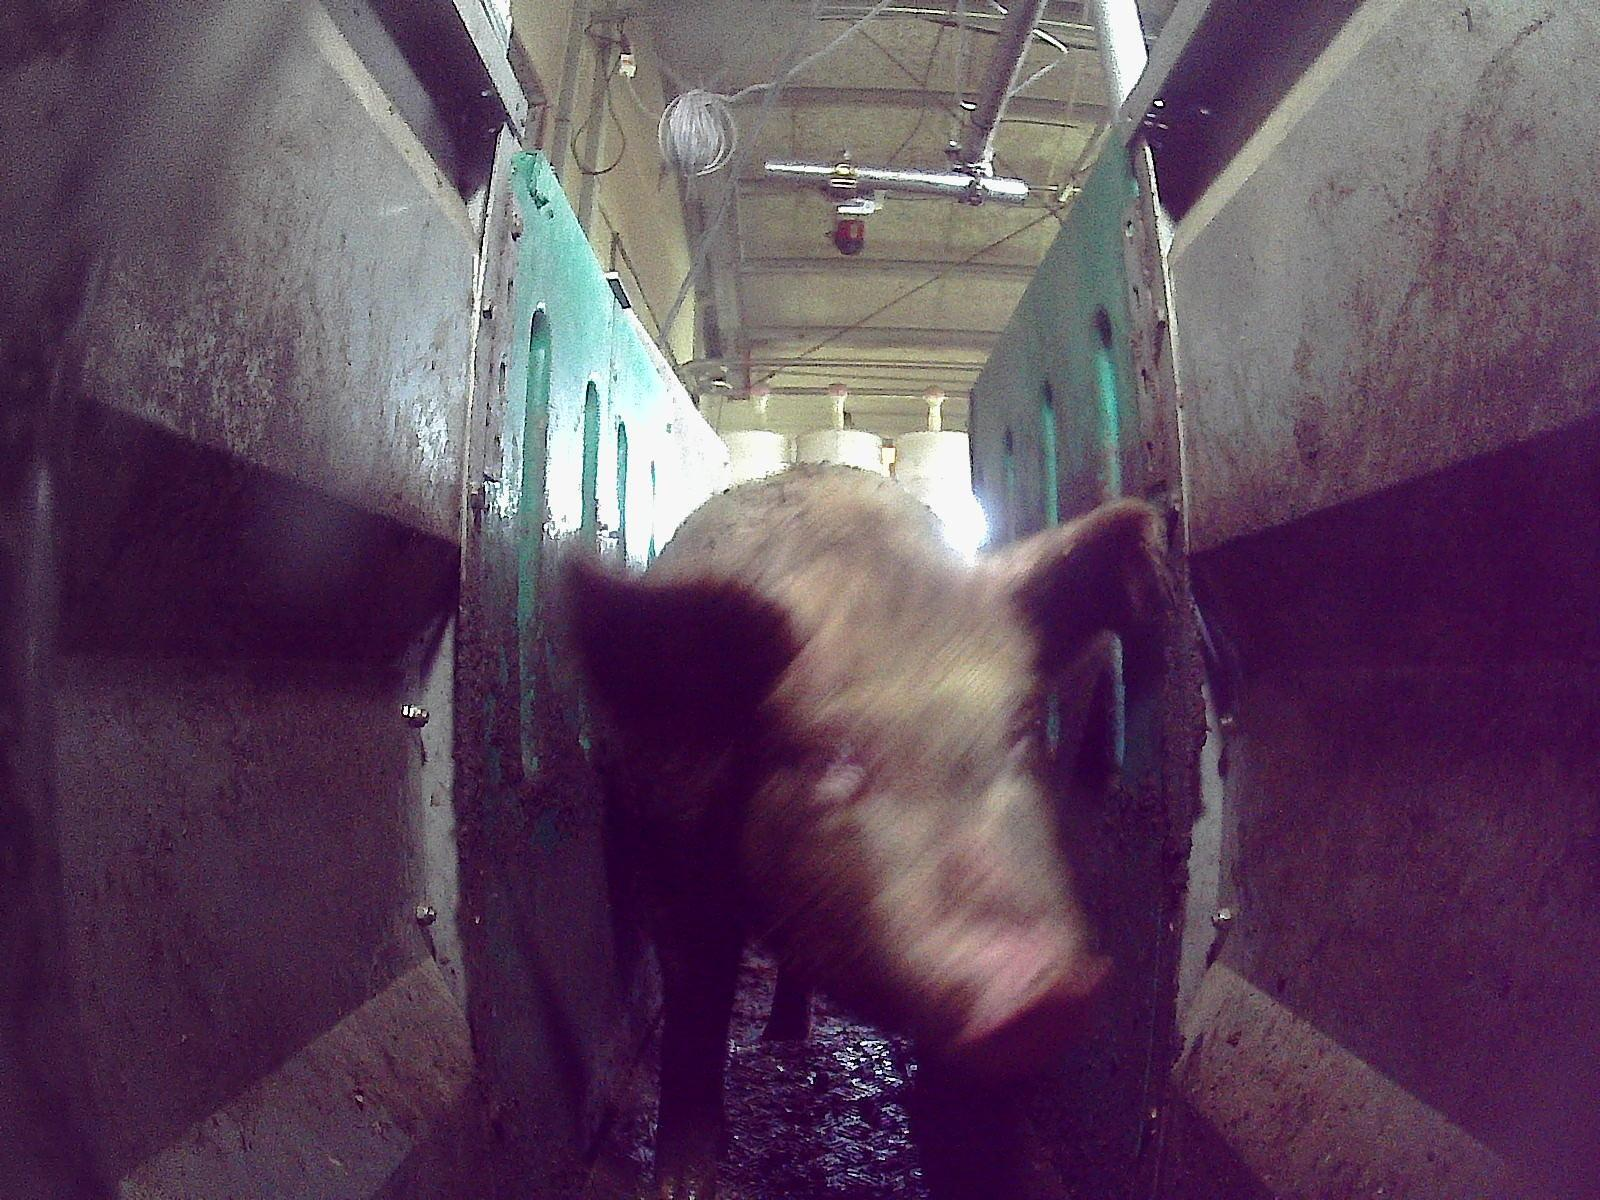Face: (721, 544, 1111, 1078)
